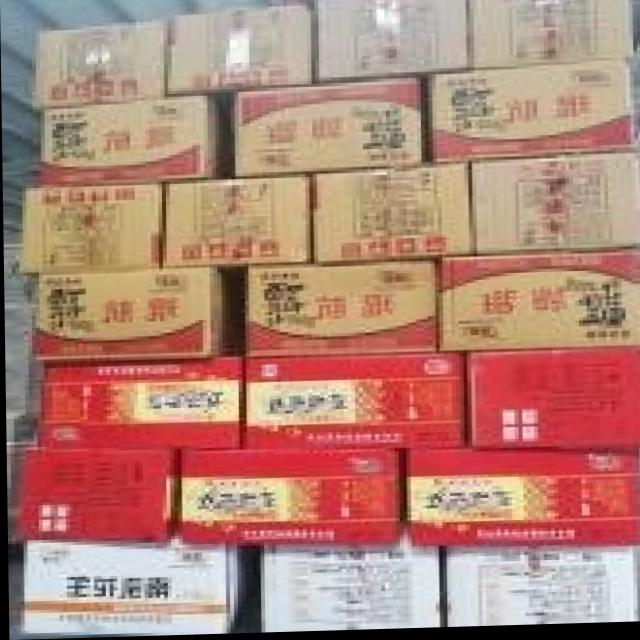box: (180, 447, 410, 550), (405, 450, 640, 550), (18, 541, 259, 635), (242, 353, 471, 451), (35, 349, 245, 451), (432, 64, 634, 165), (231, 77, 433, 178), (34, 265, 245, 360), (441, 256, 640, 353), (244, 260, 439, 358), (471, 154, 639, 257), (466, 352, 640, 451), (259, 547, 445, 634), (309, 164, 472, 263), (40, 96, 234, 179), (21, 445, 180, 546), (442, 548, 639, 627), (15, 180, 162, 276), (167, 4, 314, 98), (161, 179, 310, 270), (310, 0, 466, 86), (469, 0, 629, 73), (31, 22, 168, 107)
